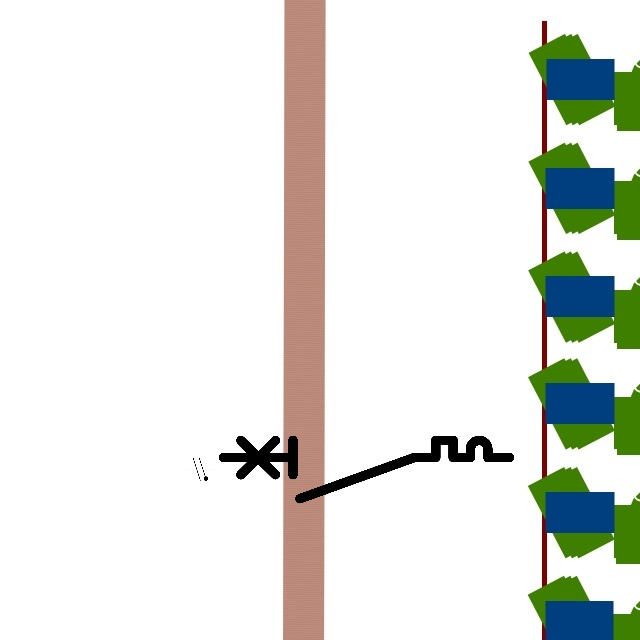interruptor_termomagnetico: (216, 433, 517, 506)
